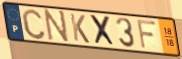3: (115, 16, 136, 49)
C: (20, 7, 47, 41)
F: (136, 19, 158, 51)
K: (69, 12, 91, 45)
N: (43, 8, 70, 45)
X: (88, 14, 118, 49)
